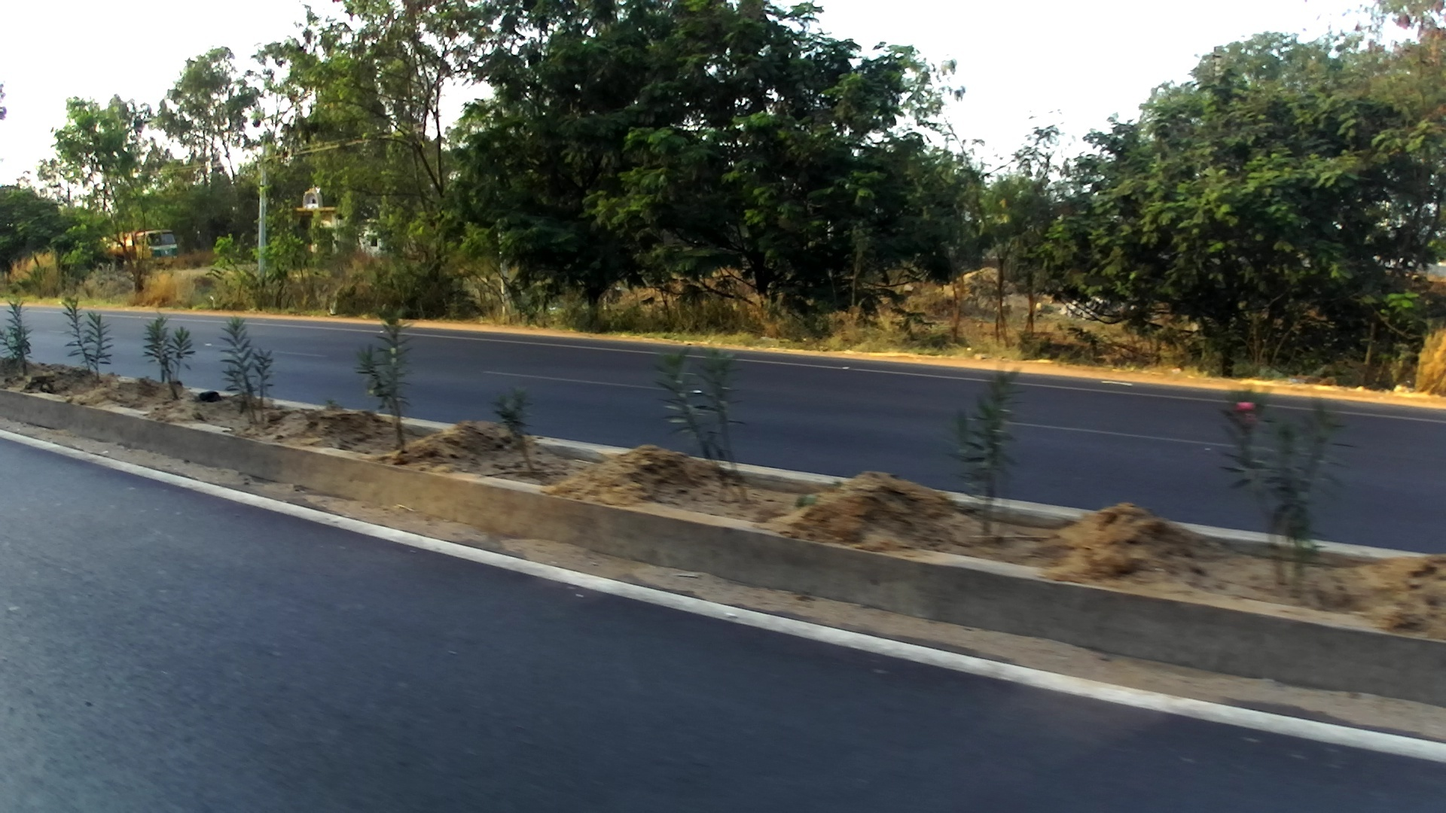truck: (102, 227, 178, 273)
